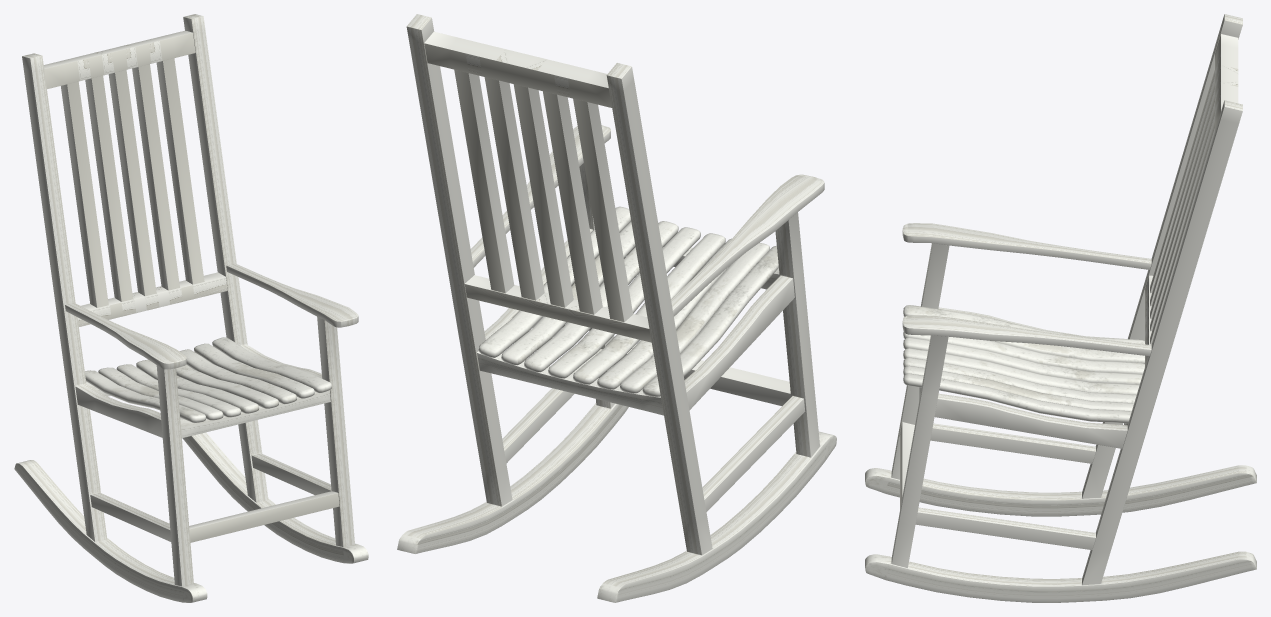
The model's file is porch_rocking_chair_7d17d0f0.glb.
3 renders of one model, left to right at view 1: azimuth 30°, elevation 25°; view 2: azimuth 150°, elevation 25°; view 3: azimuth 270°, elevation 25°, orthographic. The views are drawn at different scales.
Parts seen in each view (by area): view 1: porch_rocking_chair_7d17d0f0; view 2: porch_rocking_chair_7d17d0f0; view 3: porch_rocking_chair_7d17d0f0.
Boxes of the visible parts, bbox=[...] form: porch_rocking_chair_7d17d0f0: bbox=[14, 14, 368, 602]; porch_rocking_chair_7d17d0f0: bbox=[397, 14, 836, 602]; porch_rocking_chair_7d17d0f0: bbox=[865, 14, 1256, 602].
Bounding box in the file's own units: 0.5154 × 1.12 × 0.8046.
Materials: 2 (2 with a texture image).
